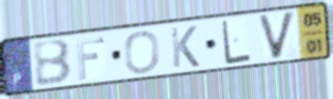B: (31, 37, 74, 88)
F: (74, 35, 107, 82)
K: (168, 24, 201, 70)
L: (220, 18, 253, 66)
O: (123, 29, 162, 75)
V: (255, 9, 298, 62)
